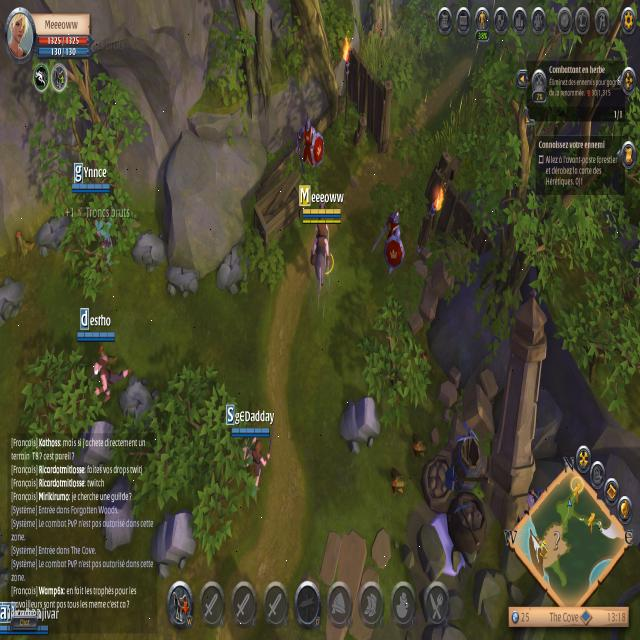broken stone: (115, 368, 165, 437), (215, 240, 252, 294), (130, 223, 167, 270), (35, 207, 71, 255), (165, 256, 200, 300), (0, 270, 24, 330)
stone: (148, 508, 198, 579), (97, 482, 136, 552), (336, 396, 383, 454), (80, 416, 114, 470)
